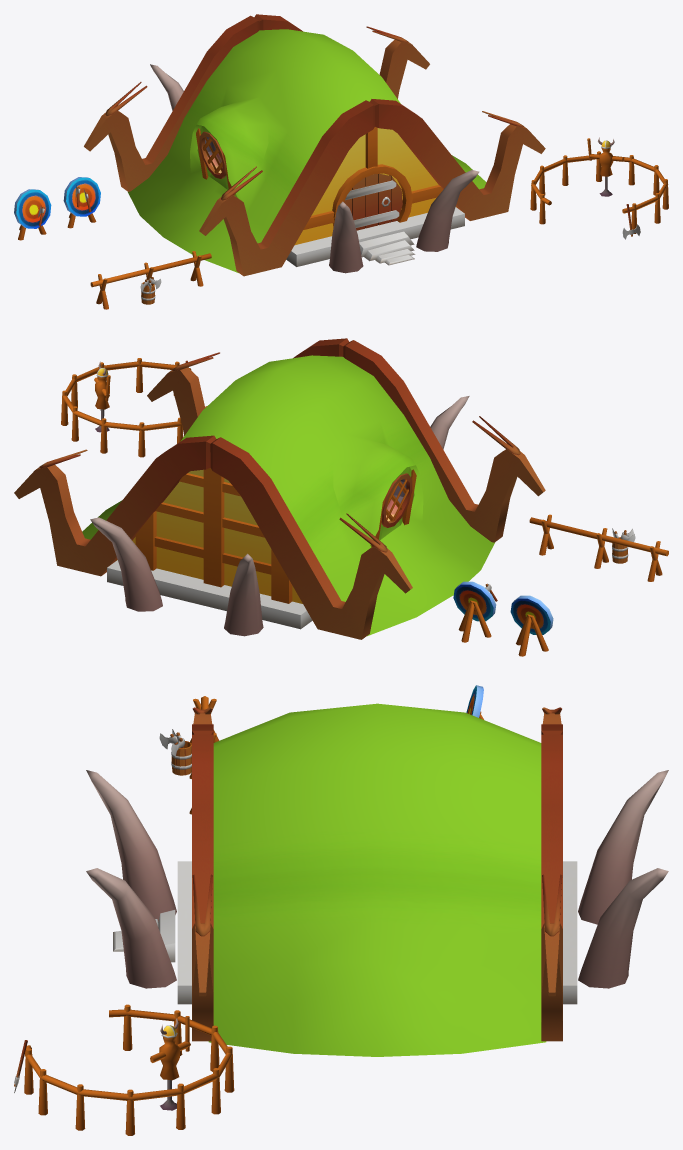
Rendered from VikingHouse_04_XXL.fbx.
The picture shows the model from 3 angles, top to bottom: view 1: azimuth 30°, elevation 25°; view 2: azimuth 150°, elevation 25°; view 3: azimuth 270°, elevation 25°; orthographic projection. The views are drawn at different scales.
Parts seen in each view (by area): view 1: VikingHouse_04_XXL, backyard; view 2: VikingHouse_04_XXL, backyard; view 3: VikingHouse_04_XXL, backyard.
Part boxes in pixels (x1=…): VikingHouse_04_XXL: x1=14, y1=14, x2=545, y2=309; backyard: x1=530, y1=137, x2=668, y2=239; VikingHouse_04_XXL: x1=14, y1=338, x2=668, y2=656; backyard: x1=61, y1=358, x2=206, y2=457; VikingHouse_04_XXL: x1=86, y1=685, x2=668, y2=1056; backyard: x1=14, y1=1004, x2=234, y2=1135.
Bounding box in the file's own units: 921 × 260 × 637.
Materials: 1 (1 with a texture image).
